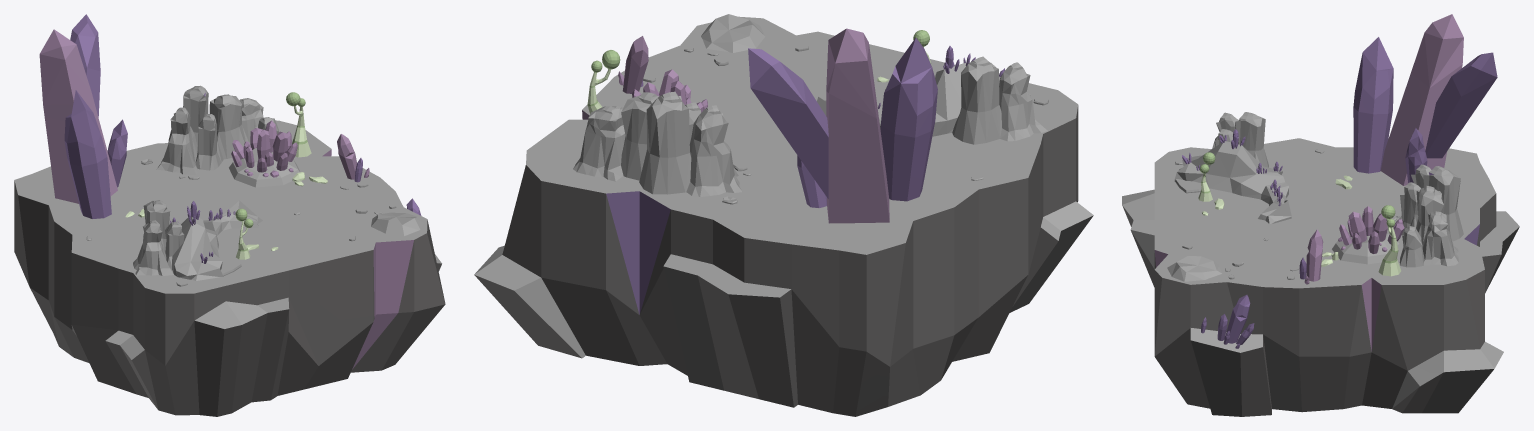
Rendered from Island_4.glb.
The picture shows the model from 3 angles, left to right: view 1: azimuth 30°, elevation 25°; view 2: azimuth 150°, elevation 25°; view 3: azimuth 270°, elevation 25°; orthographic projection. The views are drawn at different scales.
Parts seen in each view (by area): view 1: Isl4_Base, Isl4_Crystal_1, Isl4_Rock_1, Isl4_Rock_2, Isl4_Crystal_2, Isl4_Crystal_6, Isl4_Stone_5, Isl4_Crystal_3, Isl4_Crystal_5, Isl4_Tree_2, Isl4_Tree_1; view 2: Isl4_Base, Isl4_Crystal_1, Isl4_Rock_1, Isl4_Rock_2, Isl4_Crystal_2, Isl4_Stone_5, Isl4_Crystal_5, Isl4_Crystal_6, Isl4_Tree_2, Isl4_Crystal_3; view 3: Isl4_Base, Isl4_Crystal_1, Isl4_Rock_2, Isl4_Rock_1, Isl4_Crystal_2, Isl4_Crystal_6, Isl4_Crystal_4, Isl4_Stone_5, Isl4_Crystal_5, Isl4_Tree_2, Isl4_Crystal_3, Isl4_Tree_1.
Boxes of the visible parts, x1,y1,x2,y2 form: Isl4_Base: (14,120,445,416); Isl4_Crystal_1: (39,14,117,203); Isl4_Rock_1: (156,85,278,174); Isl4_Rock_2: (133,200,262,280); Isl4_Crystal_2: (64,90,111,218); Isl4_Crystal_6: (229,120,299,187); Isl4_Stone_5: (371,212,423,236); Isl4_Crystal_3: (107,119,127,187); Isl4_Crystal_5: (337,134,369,182); Isl4_Tree_2: (286,92,311,157); Isl4_Tree_1: (235,208,253,259); Isl4_Base: (474,16,1093,416); Isl4_Crystal_1: (748,28,889,223); Isl4_Rock_1: (573,91,742,196); Isl4_Rock_2: (817,46,1047,144); Isl4_Crystal_2: (880,37,937,201); Isl4_Stone_5: (701,14,765,52); Isl4_Crystal_5: (618,36,648,93); Isl4_Crystal_6: (632,69,707,112); Isl4_Tree_2: (587,50,620,113); Isl4_Crystal_3: (797,155,826,207); Isl4_Base: (1122,138,1519,416); Isl4_Crystal_1: (1380,14,1497,185); Isl4_Rock_2: (1174,112,1291,223); Isl4_Rock_1: (1396,164,1463,267); Isl4_Crystal_2: (1353,37,1393,173); Isl4_Crystal_6: (1332,206,1404,264); Isl4_Crystal_4: (1201,294,1254,348); Isl4_Stone_5: (1167,256,1222,281); Isl4_Crystal_5: (1299,229,1323,284); Isl4_Tree_2: (1378,205,1401,276); Isl4_Crystal_3: (1405,128,1427,182); Isl4_Tree_1: (1198,152,1215,201).
Size of the model in its own units: 23.33 by 19.58 by 24.45.
Materials: 1 (1 with a texture image).
